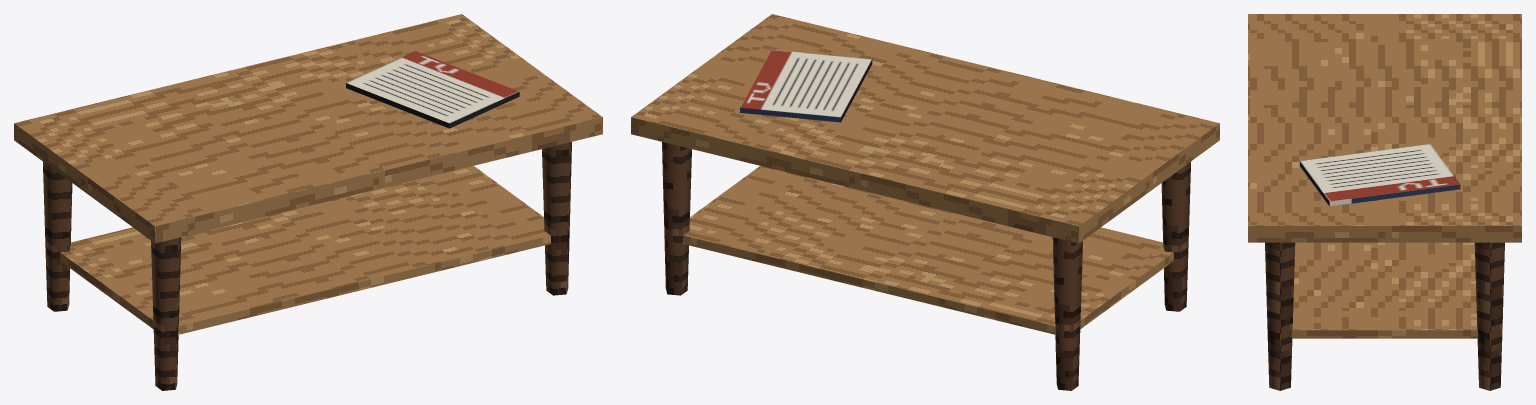
File: RES_CoffeeTable_Wood.obj
3 renders of one model, left to right at view 1: azimuth 30°, elevation 25°; view 2: azimuth 150°, elevation 25°; view 3: azimuth 270°, elevation 25°, orthographic. The views are drawn at different scales.
Visible parts, largest first — view 1: RES_CoffeeTable_Wood_Mesh_M_Furn_WoodLight, RES_CoffeeTable_Wood_Mesh_M_Furn_WoodDark, RES_CoffeeTable_Wood_Mesh_M_Res_DetailAtlas; view 2: RES_CoffeeTable_Wood_Mesh_M_Furn_WoodLight, RES_CoffeeTable_Wood_Mesh_M_Furn_WoodDark, RES_CoffeeTable_Wood_Mesh_M_Res_DetailAtlas; view 3: RES_CoffeeTable_Wood_Mesh_M_Furn_WoodLight, RES_CoffeeTable_Wood_Mesh_M_Furn_WoodDark, RES_CoffeeTable_Wood_Mesh_M_Res_DetailAtlas.
Part boxes in pixels (x1,y1,x2,y2): RES_CoffeeTable_Wood_Mesh_M_Furn_WoodLight: (14, 14, 602, 334); RES_CoffeeTable_Wood_Mesh_M_Furn_WoodDark: (43, 142, 571, 390); RES_CoffeeTable_Wood_Mesh_M_Res_DetailAtlas: (346, 51, 519, 128); RES_CoffeeTable_Wood_Mesh_M_Furn_WoodLight: (631, 14, 1219, 334); RES_CoffeeTable_Wood_Mesh_M_Furn_WoodDark: (662, 142, 1190, 390); RES_CoffeeTable_Wood_Mesh_M_Res_DetailAtlas: (740, 49, 872, 122); RES_CoffeeTable_Wood_Mesh_M_Furn_WoodLight: (1248, 14, 1521, 338); RES_CoffeeTable_Wood_Mesh_M_Furn_WoodDark: (1265, 242, 1504, 390); RES_CoffeeTable_Wood_Mesh_M_Res_DetailAtlas: (1300, 144, 1460, 206).
Size of the model in its own units: 1.1 by 0.432 by 0.6.
Materials: 3 (3 with a texture image).
